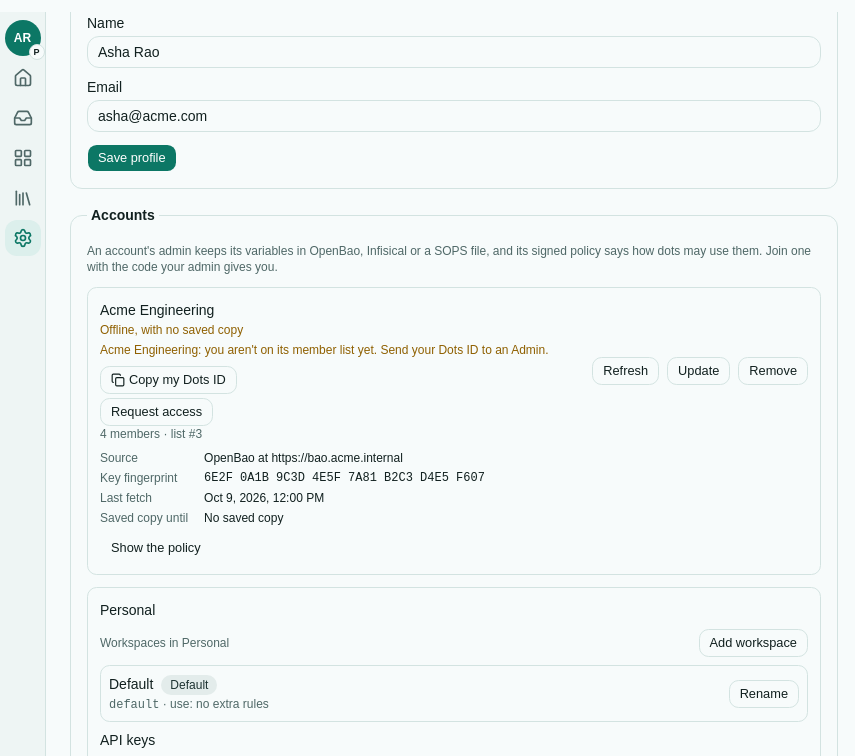
Scenario: Settings, Accounts, invites and request codes › waiting account without a request offers Request access
The width and height of the screenshot is (855, 756).
(page scrolled)
Expected: the field labelled "Request code" is not shown
Click the button "Request access": (156, 412) [100,398,213,426]
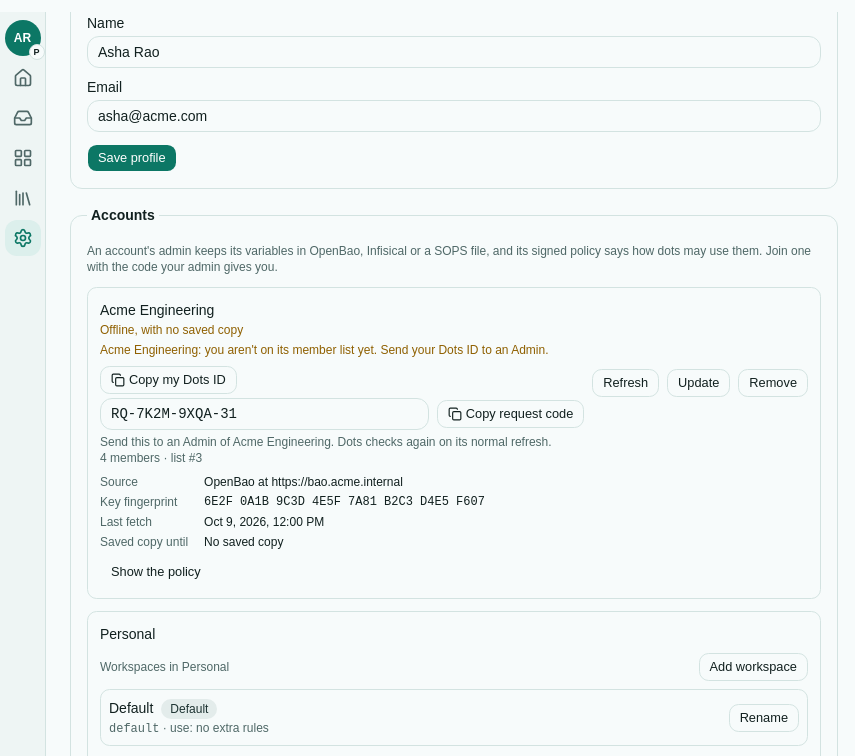
Result: the field named "Request code" holds "RQ-7K2M-9XQA-31" at [100,398,429,430]
Result: the button "Request access" is gone
